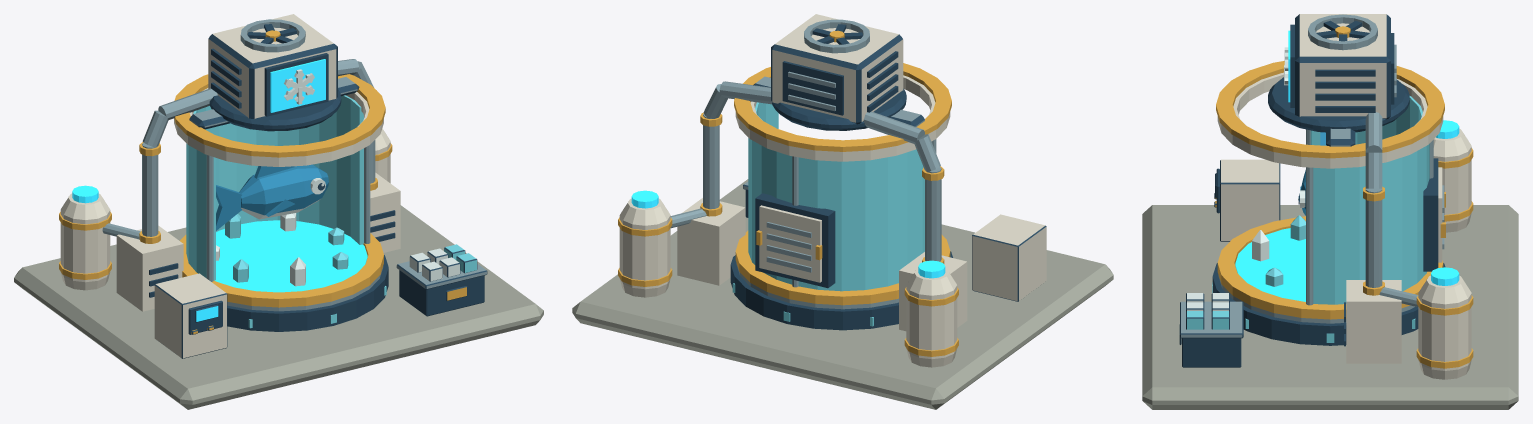
File: freezer-lv2.glb
3 views of the same model, side by side, from view 1: azimuth 30°, elevation 25°; view 2: azimuth 150°, elevation 25°; view 3: azimuth 270°, elevation 25° (orthographic). The views are drawn at different scales.
Visible parts, largest first — view 1: Freezer_L2, Bluefin_Mascot.002, Forked_Tail.002, Cold_Air_Impeller.002; view 2: Freezer_L2, Cold_Air_Impeller.002; view 3: Freezer_L2, Cold_Air_Impeller.002.
Boxes of the visible parts, <box> form: Freezer_L2: <box>14,14,543,409</box>; Bluefin_Mascot.002: <box>239,164,328,219</box>; Forked_Tail.002: <box>216,185,242,230</box>; Cold_Air_Impeller.002: <box>247,24,296,43</box>; Freezer_L2: <box>572,14,1113,409</box>; Cold_Air_Impeller.002: <box>812,24,862,44</box>; Freezer_L2: <box>1142,14,1518,409</box>; Cold_Air_Impeller.002: <box>1316,20,1369,41</box>.
Size of the model in its own units: 5.4 by 3.82 by 4.5.
